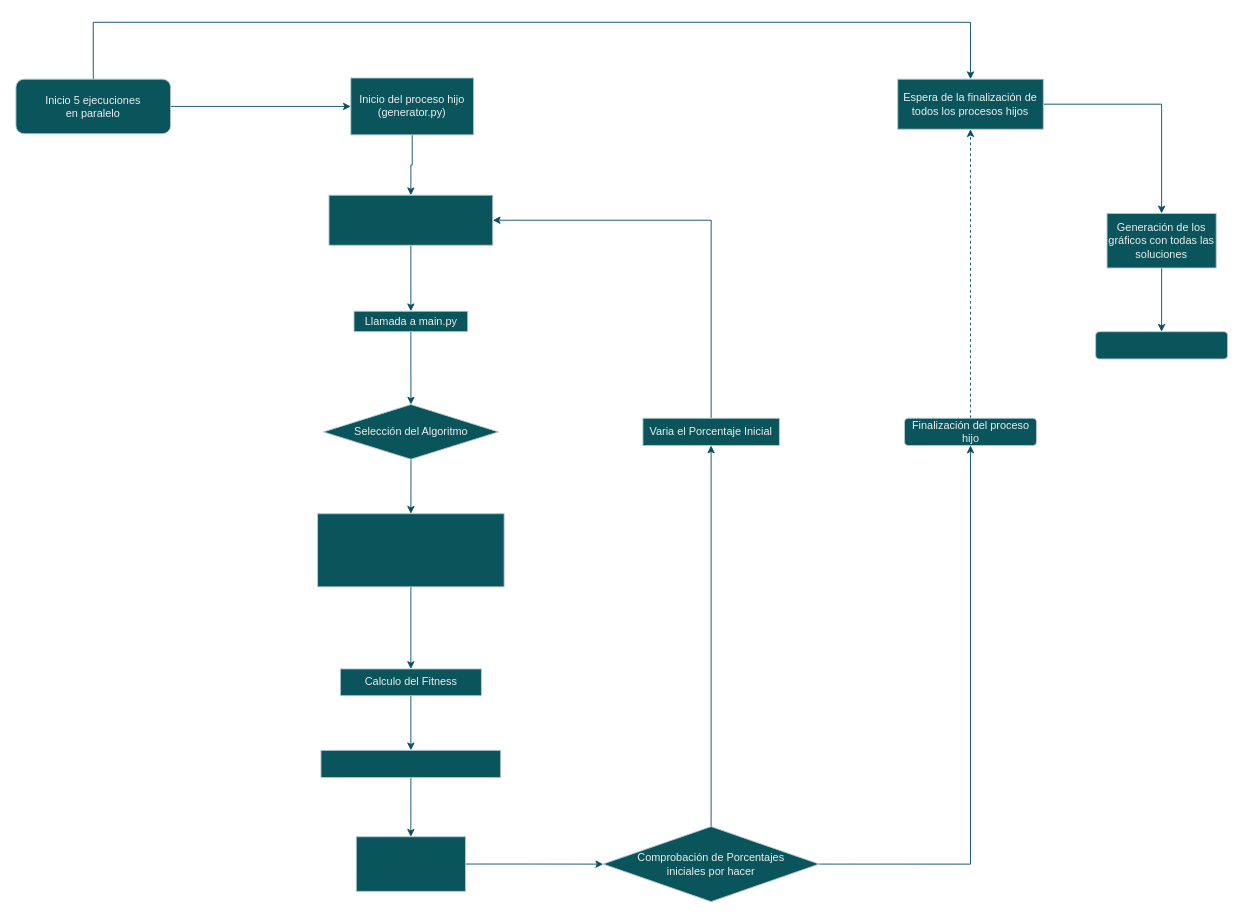
Image size: 1244x918. Some labels were removed from this diagram. Here are the shapes that lost their labels. From the top down, the centre of each, then its label:
the point at 410,219: Definición de parámetros: Algoritmo, Modelo, Dataset...
the point at 1161,345: Finalización el proceso
the point at 410,550: Evaluación de subconjunto Entrenamiento del modelo Cálculo de métricas
the point at 410,763: Actualizacón de mejor solución
the point at 410,863: Guardado de los Resultados
